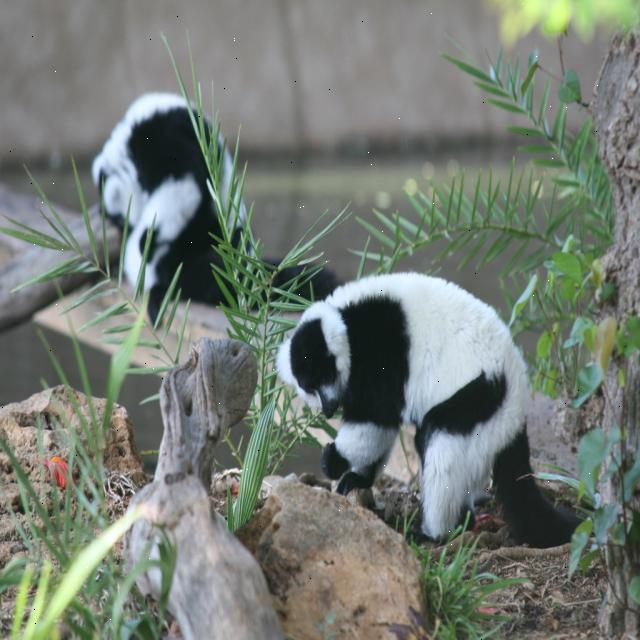panda: (274, 271, 584, 552), (88, 88, 346, 329)
